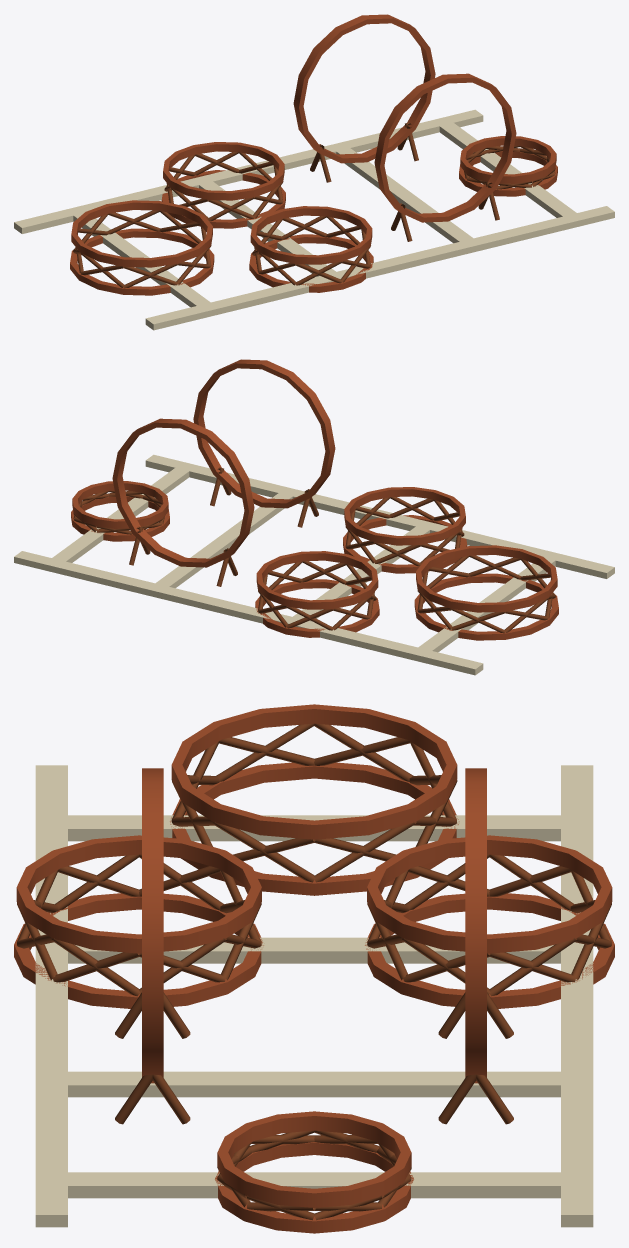
Rendered from u500_cradle.obj.
The picture shows the model from 3 angles, top to bottom: view 1: azimuth 30°, elevation 25°; view 2: azimuth 150°, elevation 25°; view 3: azimuth 270°, elevation 25°; orthographic projection. The views are drawn at different scales.
Parts seen in each view (by area): view 1: u500_cradle; view 2: u500_cradle; view 3: u500_cradle.
Boxes of the visible parts, left/top/right/bottom form: u500_cradle: left=14, top=14, right=614, bottom=330; u500_cradle: left=14, top=359, right=614, bottom=675; u500_cradle: left=14, top=704, right=614, bottom=1233.
Size of the model in its own units: 8.09 by 2.52 by 4.46.
